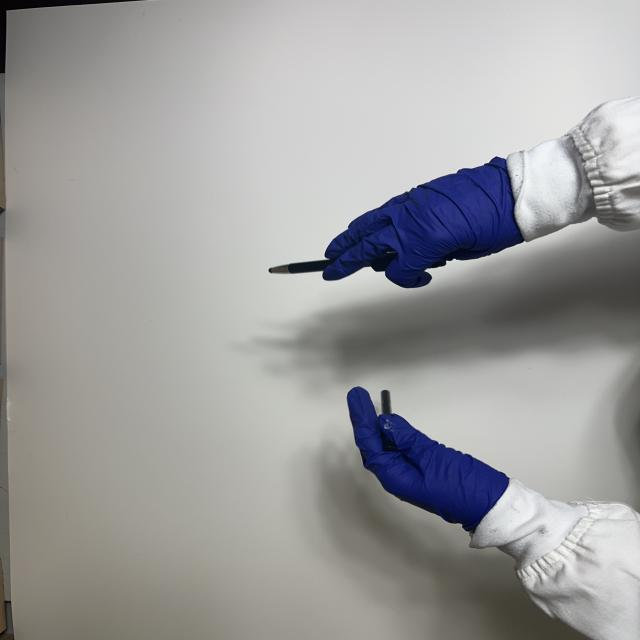gloves_contaminated: (324, 158, 524, 288), (347, 387, 508, 531)
